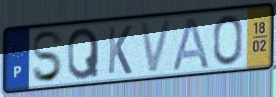A: (171, 15, 212, 73)
K: (106, 24, 134, 77)
O: (211, 13, 245, 67)
Q: (66, 25, 101, 82)
S: (30, 29, 66, 85)
V: (137, 17, 175, 77)
